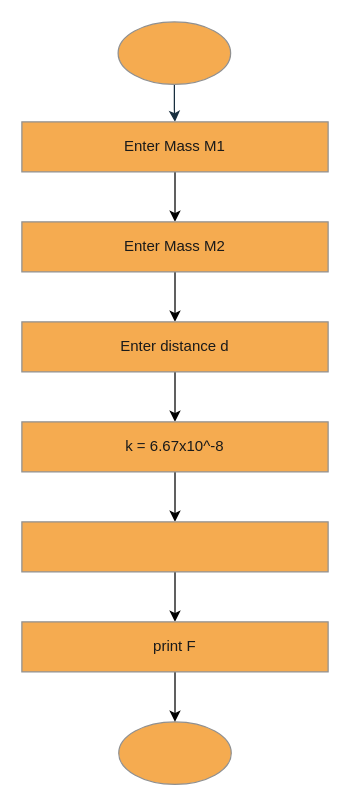
Some shapes in this 350 by 806 pixel diagram are drawn without their labels. The box of each missing label's shape, as (x1, y1, x2, y2) in pixels:
F = {k(M1 x M2)} / (d x d): (21, 521, 328, 572)
Start: (117, 21, 231, 84)
Stop: (118, 721, 231, 784)
